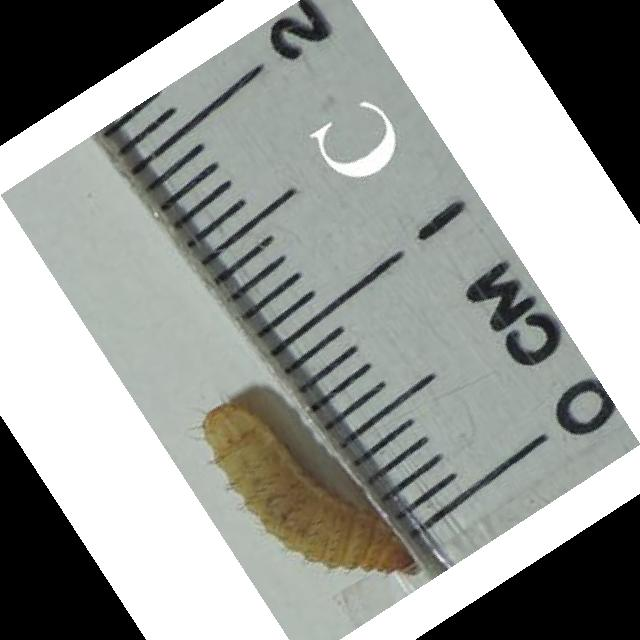Maggot: (197, 403, 424, 577)
